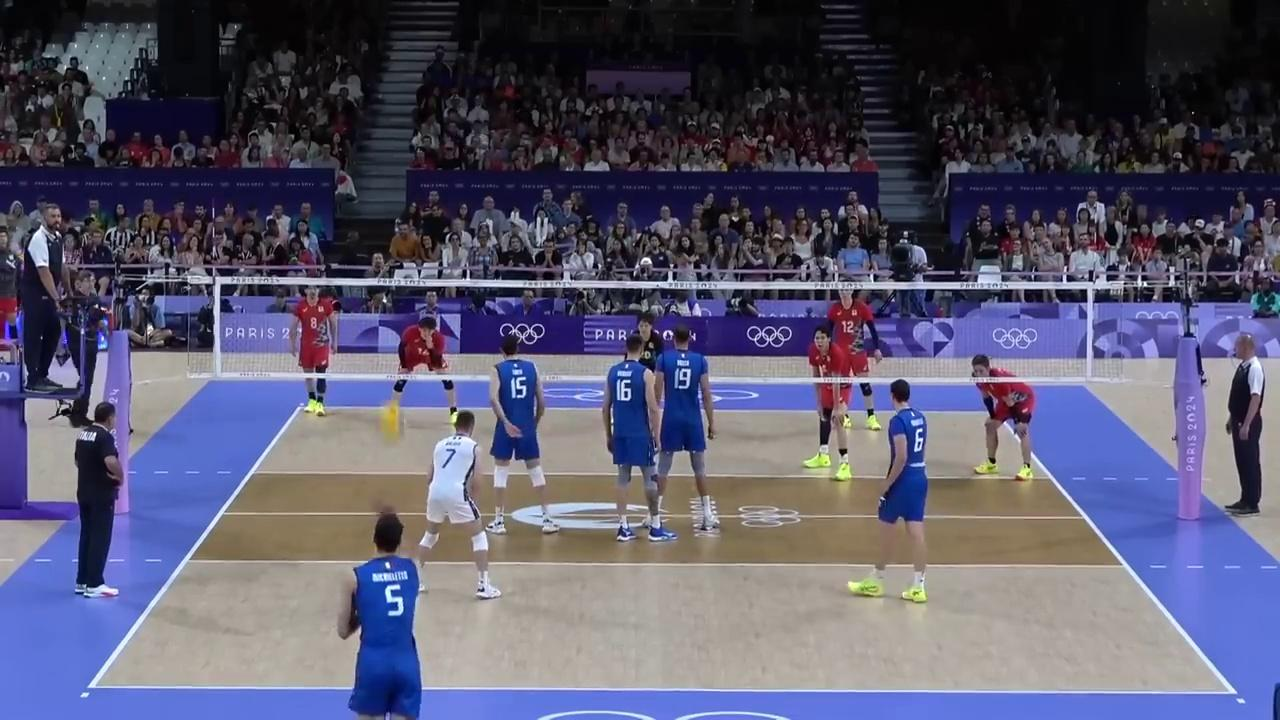ball: (380, 404, 406, 440)
